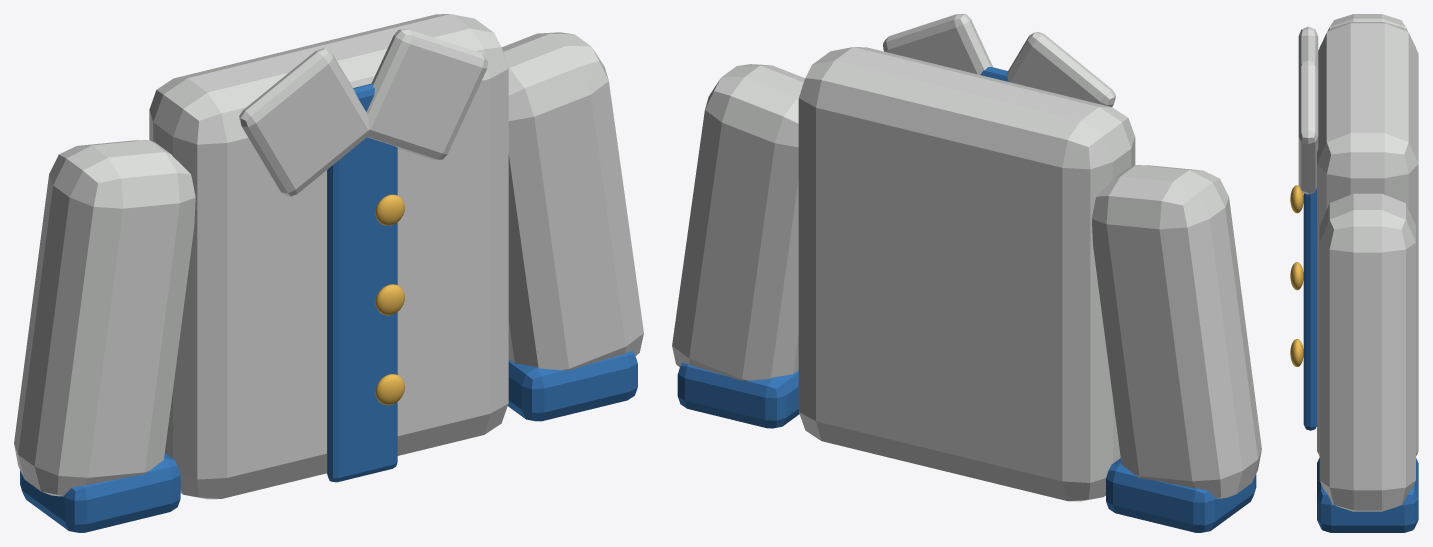
Rendered from pickup_lab_coat.glb.
3 views of the same model, side by side, from view 1: azimuth 30°, elevation 25°; view 2: azimuth 150°, elevation 25°; view 3: azimuth 270°, elevation 25° (orthographic). The views are drawn at different scales.
Parts seen in each view (by area): view 1: Coat torso, Coat sleeve, Coat sleeve.001, Open coat front, Coat collar left, Coat collar right, Cuff, Cuff.001, Coat button.002, Coat button.001, Coat button; view 2: Coat torso, Coat sleeve, Coat sleeve.001, Cuff, Cuff.001, Coat collar left, Coat collar right; view 3: Coat sleeve.001, Coat torso, Open coat front, Cuff.001, Coat collar right, Coat collar left, Coat sleeve, Coat button.001, Coat button, Coat button.002.
Part boxes in pixels (x1,y1,x2,y2): Coat torso: (149,14,508,499); Coat sleeve: (14,140,195,496); Coat sleeve.001: (501,32,643,370); Open coat front: (327,83,397,482); Coat collar left: (239,48,368,196); Coat collar right: (366,29,487,159); Cuff: (20,453,180,532); Cuff.001: (508,351,637,421); Coat button.002: (375,194,404,225); Coat button.001: (375,284,404,315); Coat button: (375,374,404,405); Coat torso: (798,47,1135,501); Coat sleeve: (1091,165,1261,498); Coat sleeve.001: (672,64,804,380); Cuff: (1106,458,1256,532); Cuff.001: (677,362,799,428); Coat collar left: (1006,31,1115,106); Coat collar right: (883,14,992,74); Coat sleeve.001: (1319,193,1415,511); Coat torso: (1317,22,1418,456); Open coat front: (1303,188,1316,430); Cuff.001: (1317,458,1418,532); Coat collar right: (1298,60,1318,194); Coat collar left: (1298,26,1318,69); Coat sleeve: (1319,14,1415,47); Coat button.001: (1290,262,1303,290); Coat button: (1290,339,1303,366); Coat button.002: (1290,185,1303,213).
Bounding box in the file's own units: 1.06 × 0.7452 × 0.227.
